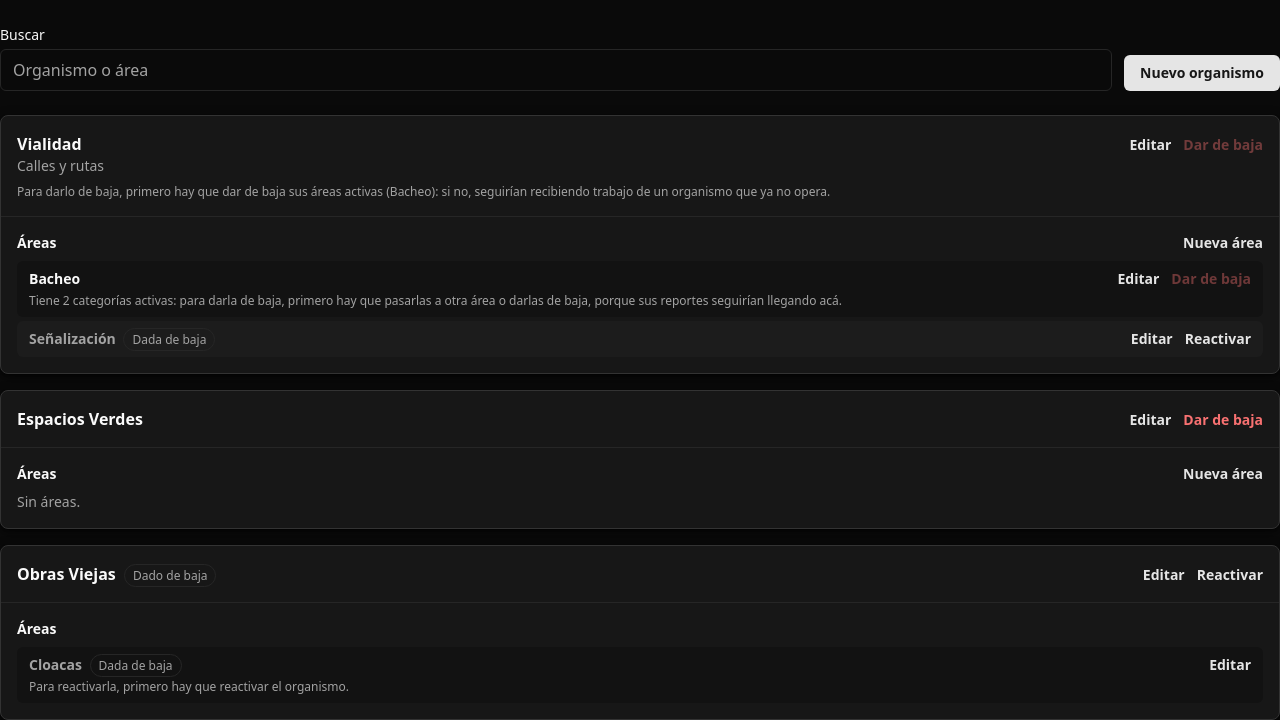
Test: organismos y áreas (F16) › reactiva un organismo dado de baja; sus áreas esperan a que se reactive
The image size is (1280, 720).
(page scrolled)
Expected: the text "Para reactivarla, primero hay que reactivar el organismo." is shown, top-left (29, 678), bottom-right (349, 695)
Click the button with aria-label "Reactivar Obras Viejas" at (1230, 575), box top-left (1197, 565), bottom-right (1263, 585)
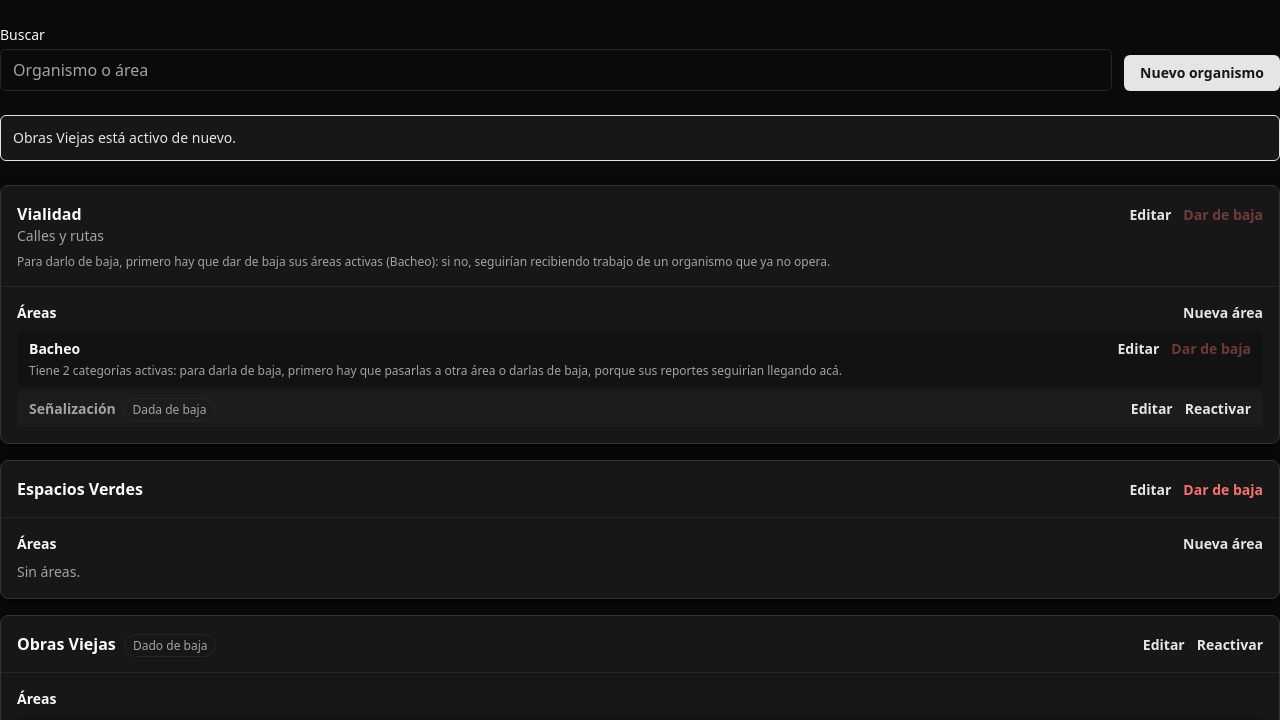
Now the text "Obras Viejas está activo de nuevo." is shown, box top-left (0, 115), bottom-right (1279, 161)
